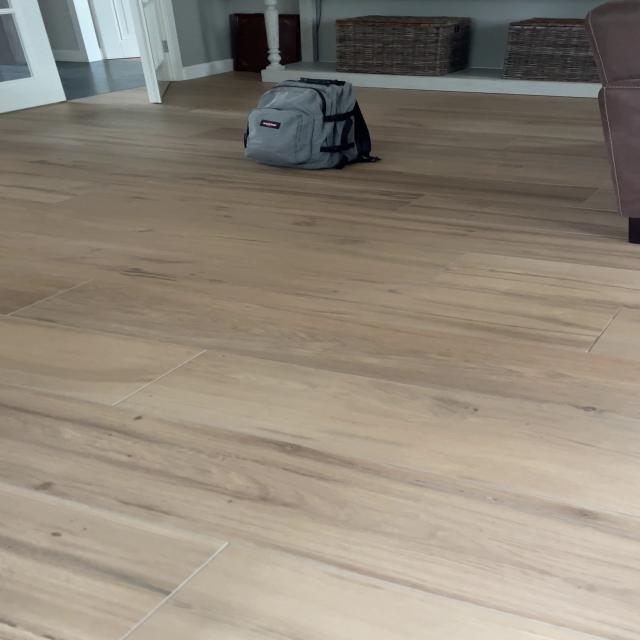backpack: (238, 72, 378, 174)
